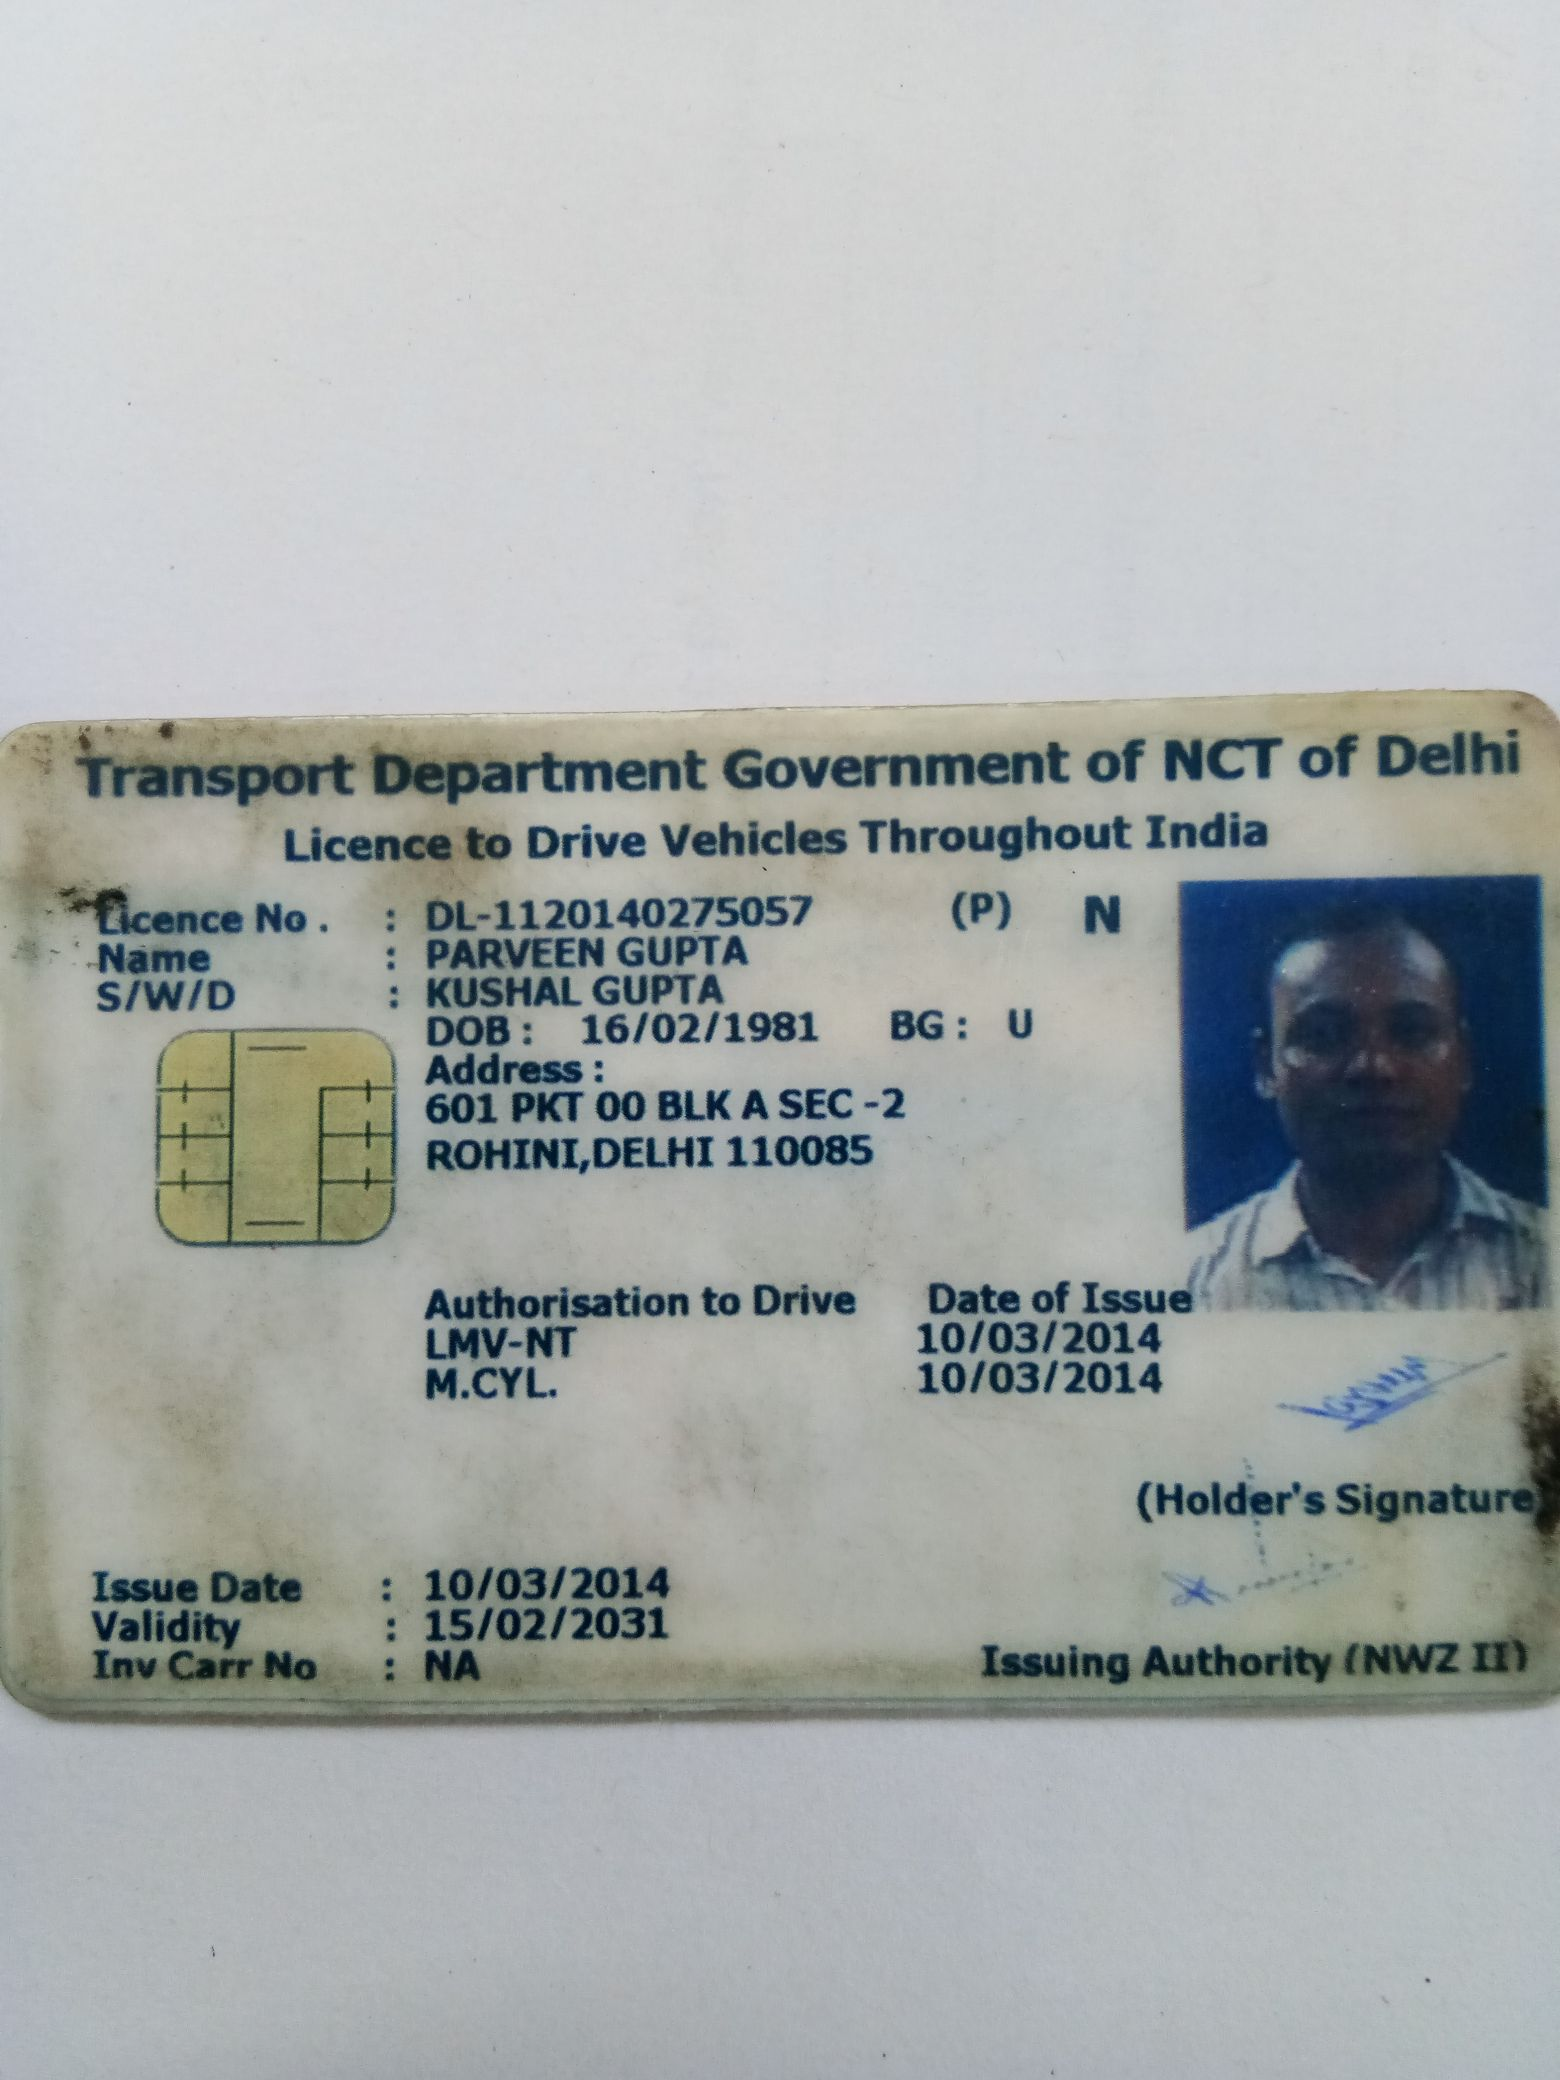text: (99, 961, 725, 1020), (93, 891, 823, 939), (102, 930, 739, 975), (429, 1006, 831, 1053)
